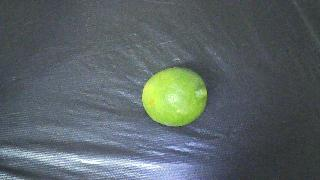LOCAL: (142, 67, 207, 126)
